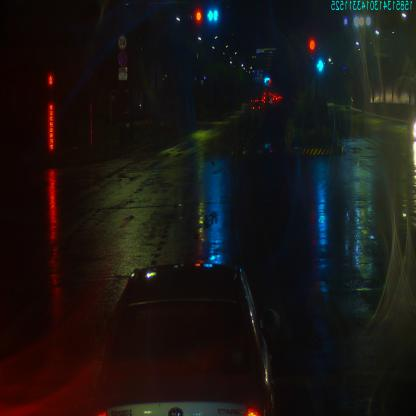traffic-light: (208, 7, 220, 23), (195, 8, 203, 25)
